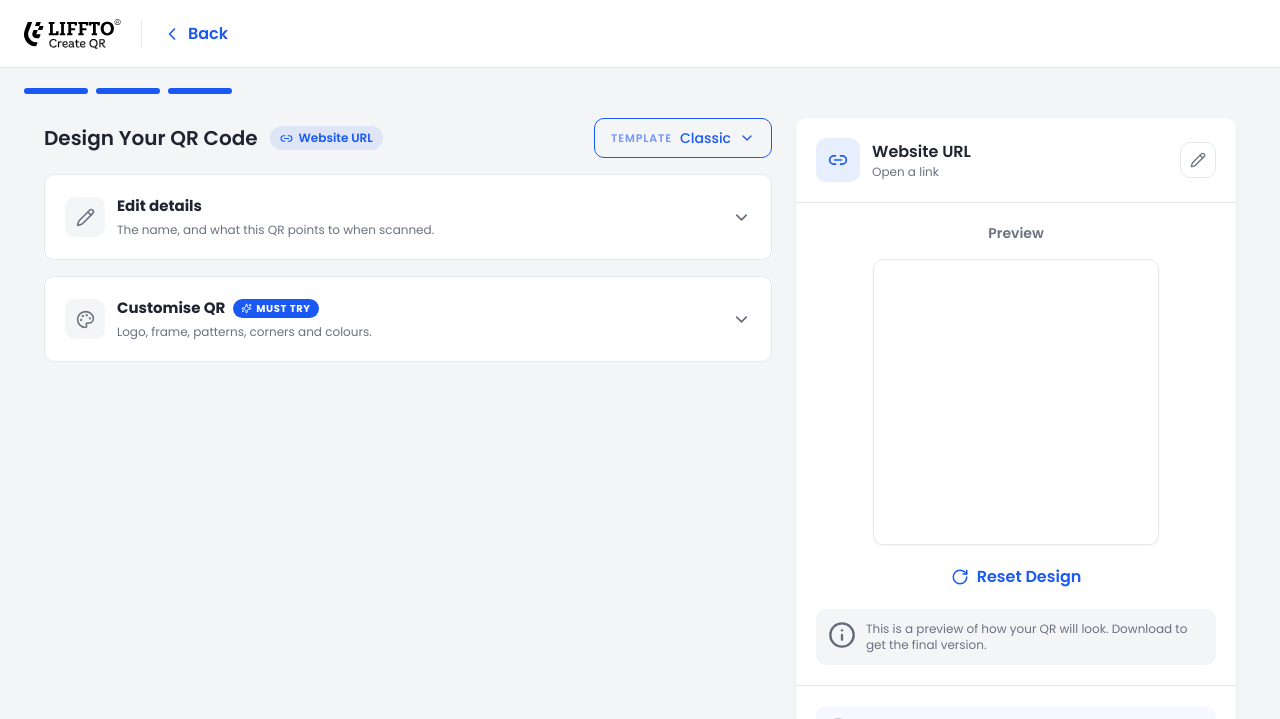
Test: the design page, split in two › lets both be open at once, for anyone who wants the old view
Check: the heading "Edit details" is shown, box [117,195,202,218]
Click the button that starts with "Edit details": (85,217) [45,175,771,259]
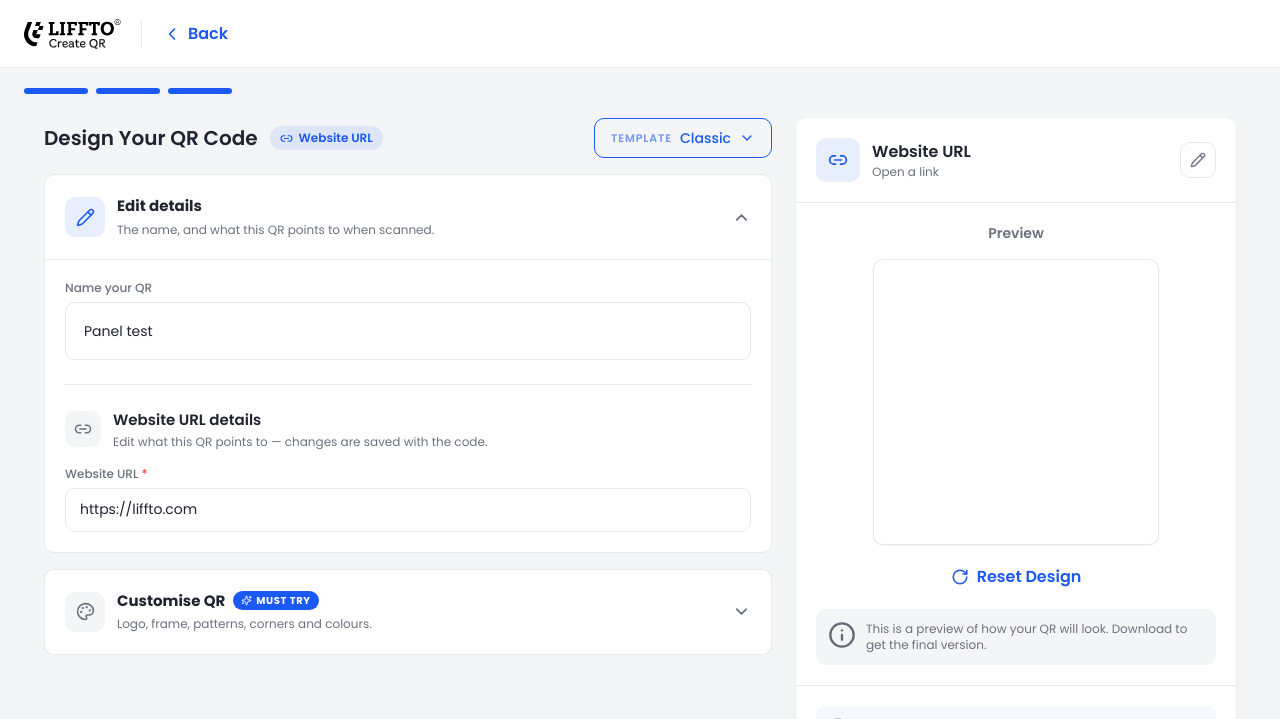
Click the button that starts with "Customise QR": (85,612) [45,570,771,654]
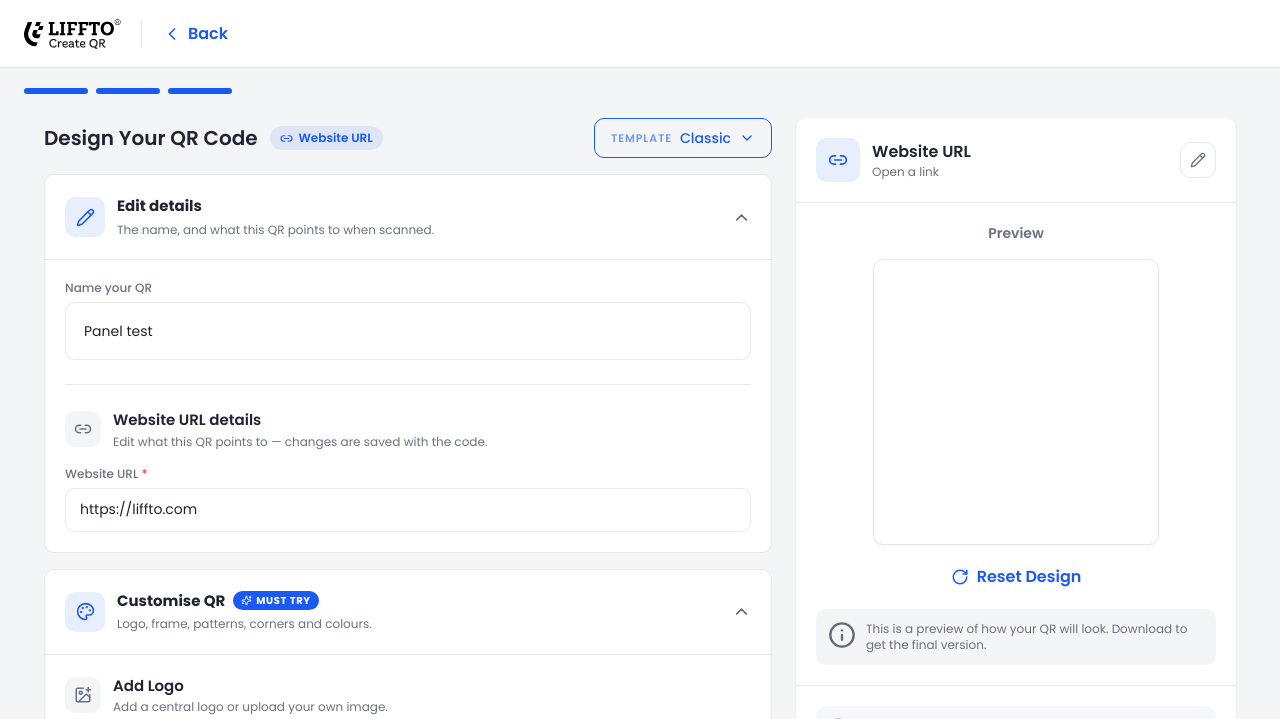
Check: the button that starts with "Edit details" is expanded, box [45,175,771,259]
Check: the field with placeholder "e.g. Summer Sale Promo" is shown, box [72,309,744,353]
Check: the button that starts with "Customise QR" is expanded, box [45,570,771,654]
